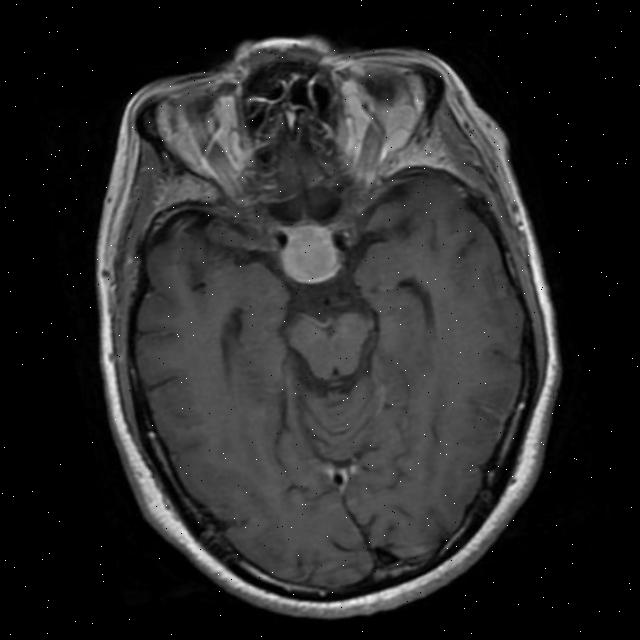Pituitary: (276, 216, 344, 287)
